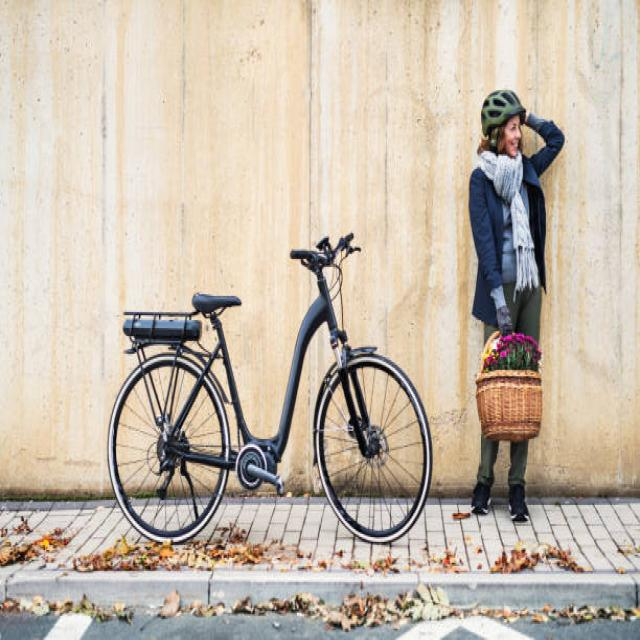bicycle: (108, 234, 431, 542)
